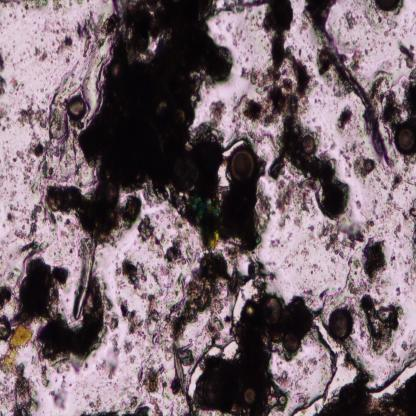Background material: (47, 0, 229, 242), (265, 0, 352, 218), (0, 261, 107, 383), (188, 300, 276, 415), (145, 249, 239, 349), (317, 369, 416, 415), (220, 188, 271, 254), (0, 327, 37, 414), (357, 293, 405, 357), (7, 202, 51, 260), (132, 354, 174, 411), (347, 240, 389, 295), (275, 178, 313, 232), (382, 66, 416, 126), (18, 142, 59, 190), (46, 244, 105, 276), (282, 246, 327, 287), (234, 95, 277, 136), (318, 219, 365, 255), (76, 6, 114, 50), (284, 294, 317, 344), (363, 188, 400, 232), (81, 393, 150, 416), (119, 257, 151, 304), (315, 56, 350, 96), (372, 74, 398, 123), (340, 140, 376, 175), (119, 298, 146, 343), (315, 284, 351, 316), (244, 255, 275, 292), (49, 23, 75, 66), (138, 217, 168, 253), (404, 198, 416, 284), (163, 237, 196, 267), (99, 336, 121, 380), (304, 0, 338, 28), (18, 103, 50, 132), (238, 66, 268, 94), (280, 372, 307, 403), (213, 0, 265, 15), (0, 1, 49, 16), (389, 164, 412, 193), (268, 148, 288, 181), (294, 350, 320, 375), (104, 293, 119, 334), (51, 377, 69, 410), (372, 0, 405, 17), (396, 43, 416, 71), (340, 9, 362, 33), (204, 108, 228, 129), (227, 29, 247, 50), (338, 109, 356, 132), (0, 49, 8, 99), (381, 16, 399, 37), (9, 77, 24, 97), (0, 107, 12, 132), (33, 45, 49, 63), (350, 50, 364, 70), (39, 364, 50, 388), (307, 225, 317, 251), (393, 223, 403, 245), (268, 238, 282, 250), (52, 1, 63, 16)
Cellulose filter fibre: (312, 19, 390, 162)
Diatom: (229, 150, 256, 188), (328, 307, 354, 342), (172, 342, 186, 396), (262, 294, 282, 328), (394, 126, 416, 156), (68, 97, 86, 119), (243, 384, 257, 407), (286, 332, 300, 354), (300, 178, 318, 192), (303, 135, 315, 154), (84, 38, 90, 54)
